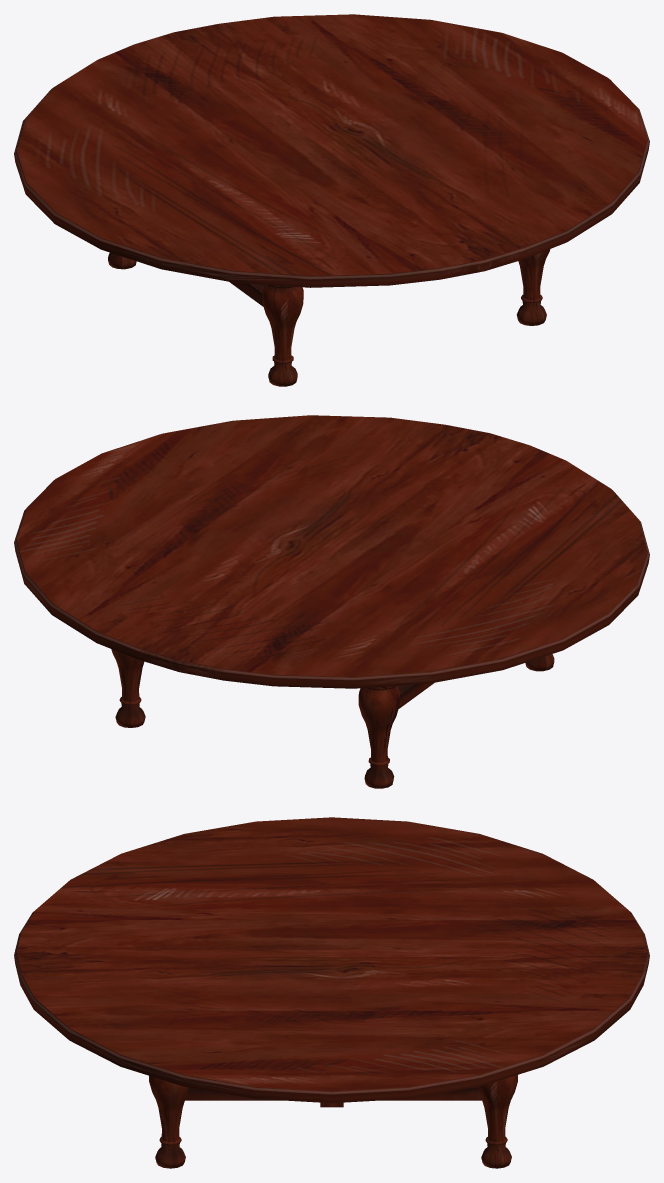
Rendered from lowTabled.fbx.
3 renders of one model, top to bottom at view 1: azimuth 30°, elevation 25°; view 2: azimuth 150°, elevation 25°; view 3: azimuth 270°, elevation 25°, orthographic.
Parts seen in each view (by area): view 1: polySurface1653; view 2: polySurface1653; view 3: polySurface1653.
Boxes of the visible parts, x1=… form: polySurface1653: x1=14, y1=14, x2=649, y2=386; polySurface1653: x1=14, y1=415, x2=649, y2=788; polySurface1653: x1=14, y1=817, x2=649, y2=1168.
Bounding box in the file's own units: 217 × 54.55 × 211.
